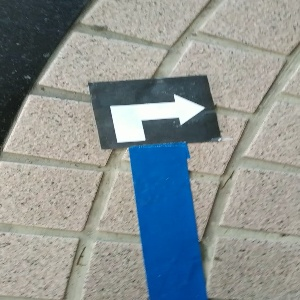right: (89, 75, 221, 150)
